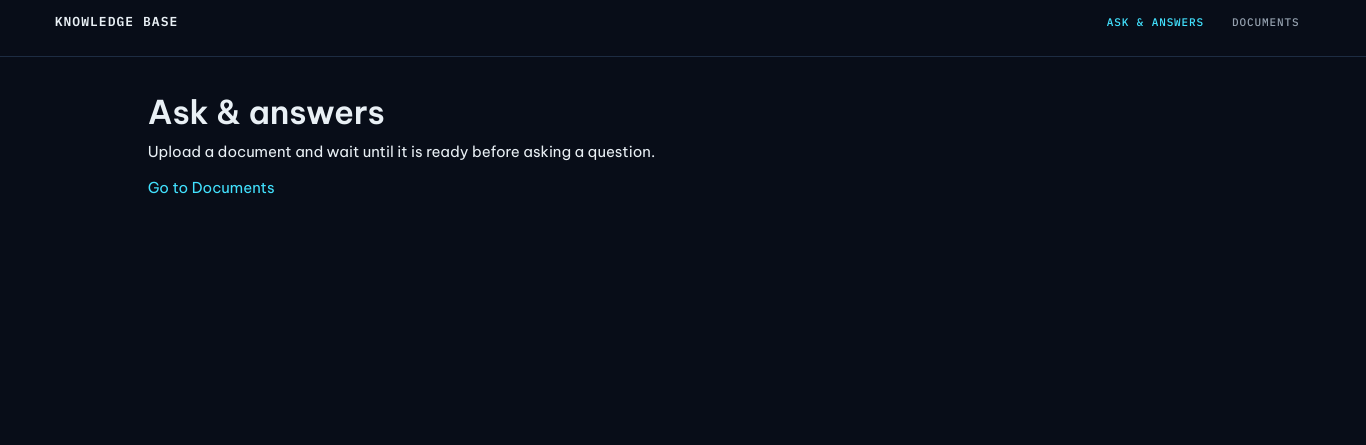
Scenario: App audit remediation — query, answer, and evidence › empty-index guidance navigates to Documents
The image size is (1366, 445).
Check: the text "Upload a document and wait until it is ready" is shown, box top-left (148, 142), bottom-right (655, 161)
Click the link "Go to Documents".
click(211, 188)  # box top-left (148, 178), bottom-right (274, 197)
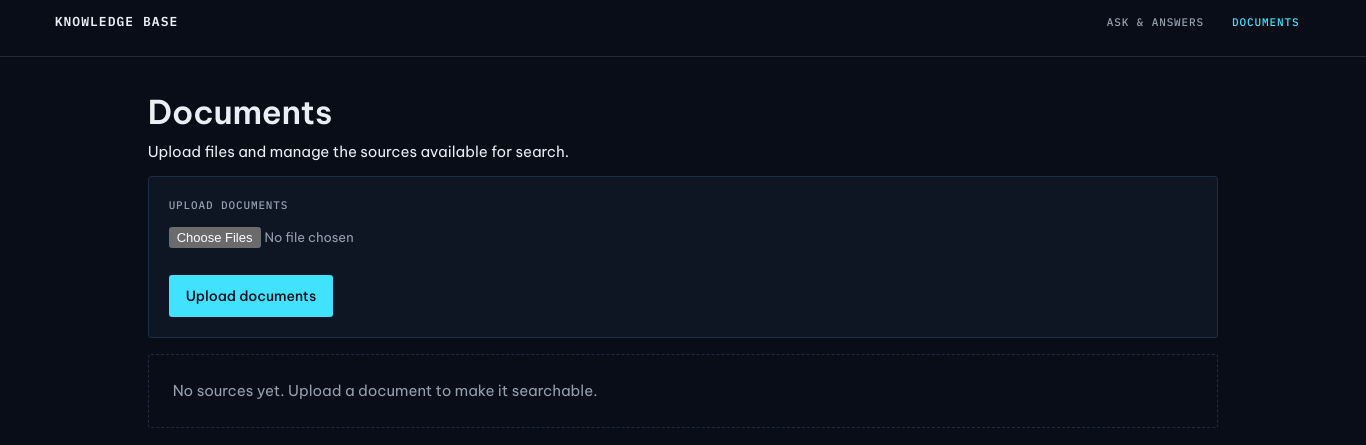
Check: the button "Upload documents" is shown, box top-left (169, 275), bottom-right (333, 317)
